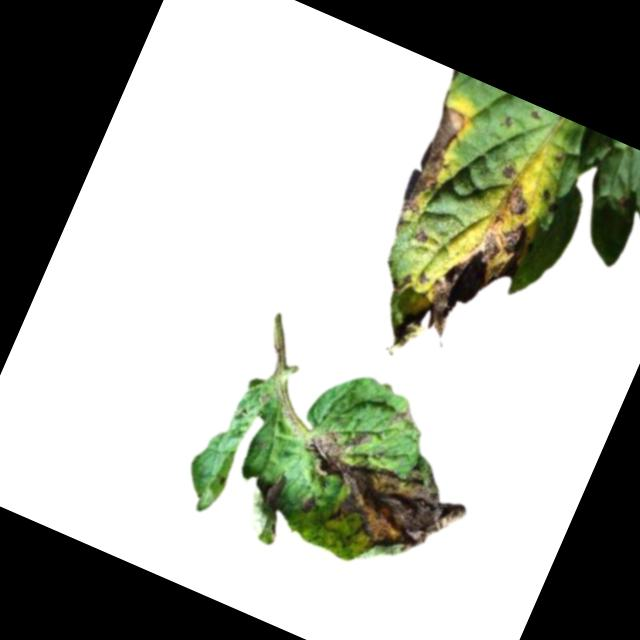Early_blight: (280, 413, 482, 576), (386, 193, 540, 390), (397, 103, 471, 220), (255, 471, 290, 516), (499, 181, 537, 222), (388, 269, 415, 300), (390, 403, 417, 433), (499, 162, 518, 181), (537, 187, 555, 206), (411, 228, 428, 247)
